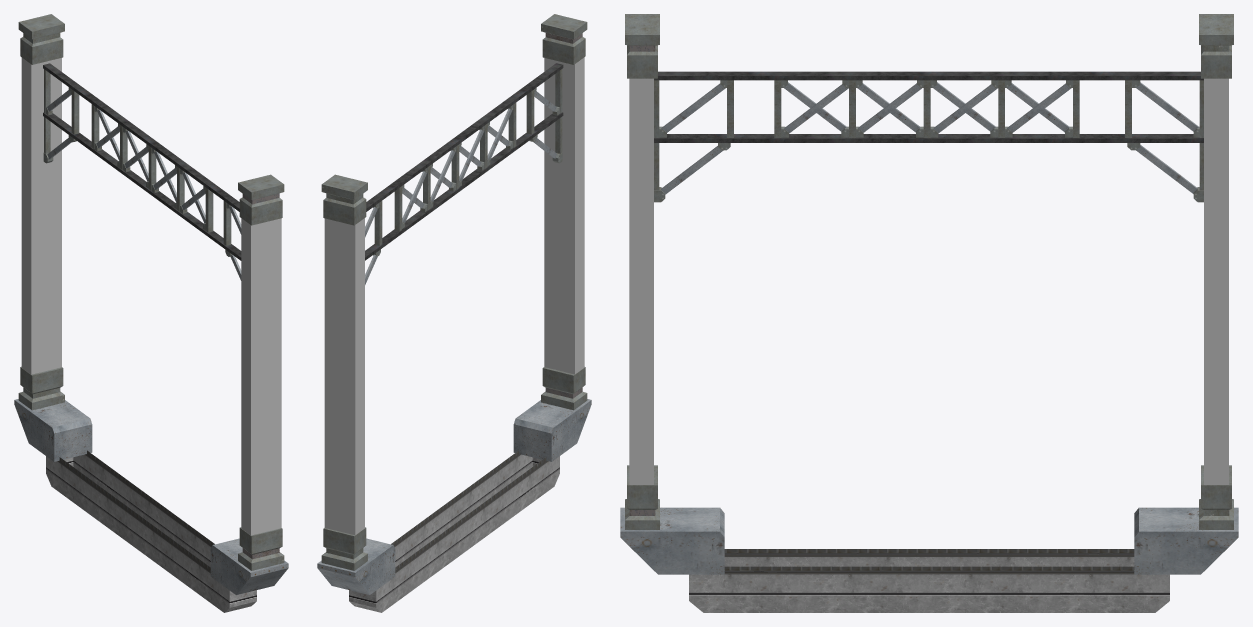
File: Ob_BridgeArch_RC.fbx
3 views of the same model, side by side, from view 1: azimuth 30°, elevation 25°; view 2: azimuth 150°, elevation 25°; view 3: azimuth 270°, elevation 25° (orthographic). The views are drawn at different scales.
Parts seen in each view (by area): view 1: Ob_BridgeArch_RC; view 2: Ob_BridgeArch_RC; view 3: Ob_BridgeArch_RC.
Boxes of the visible parts, <box> form: Ob_BridgeArch_RC: <box>14,14,288,612</box>; Ob_BridgeArch_RC: <box>317,14,591,612</box>; Ob_BridgeArch_RC: <box>620,14,1238,612</box>.
Bounding box in the file's own units: 170 × 1895 × 1831.
